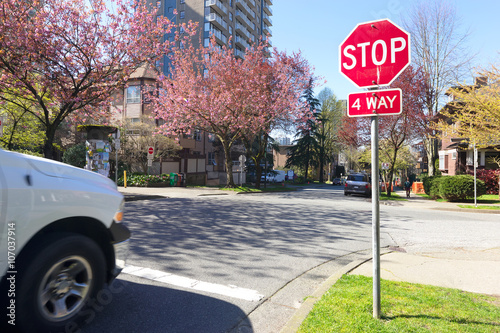StopSign: (338, 18, 409, 88)
